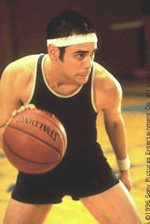basketball: (3, 109, 67, 174)
